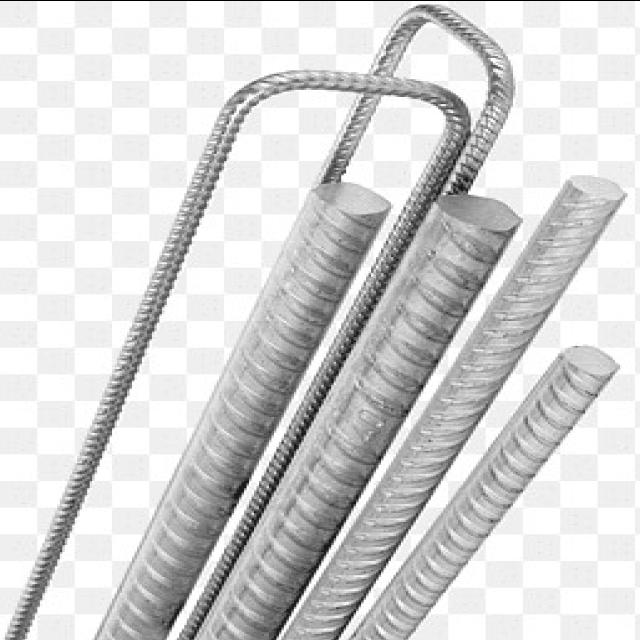Rebar: (438, 194, 517, 233), (309, 178, 385, 215), (563, 175, 623, 206), (560, 344, 614, 375)
